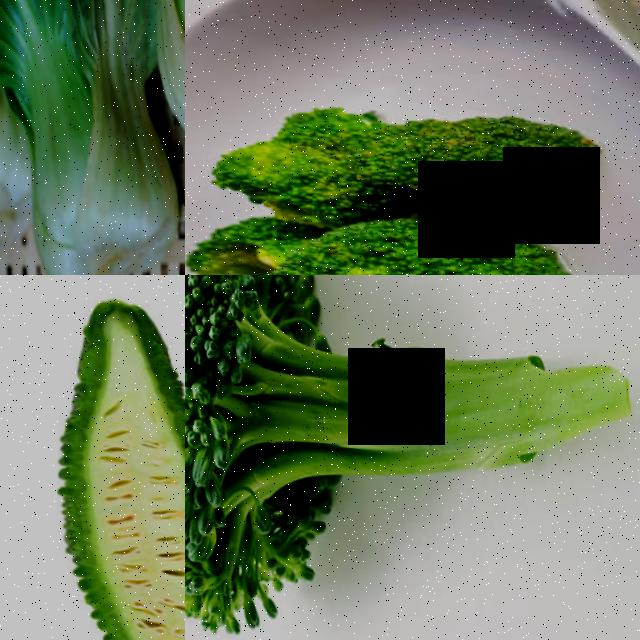bitter gourd: (0, 275, 185, 640)
bok choy: (0, 0, 162, 275)
broccoli: (185, 275, 640, 640), (353, 82, 635, 223), (185, 85, 367, 220), (276, 200, 576, 275), (185, 195, 288, 275)
